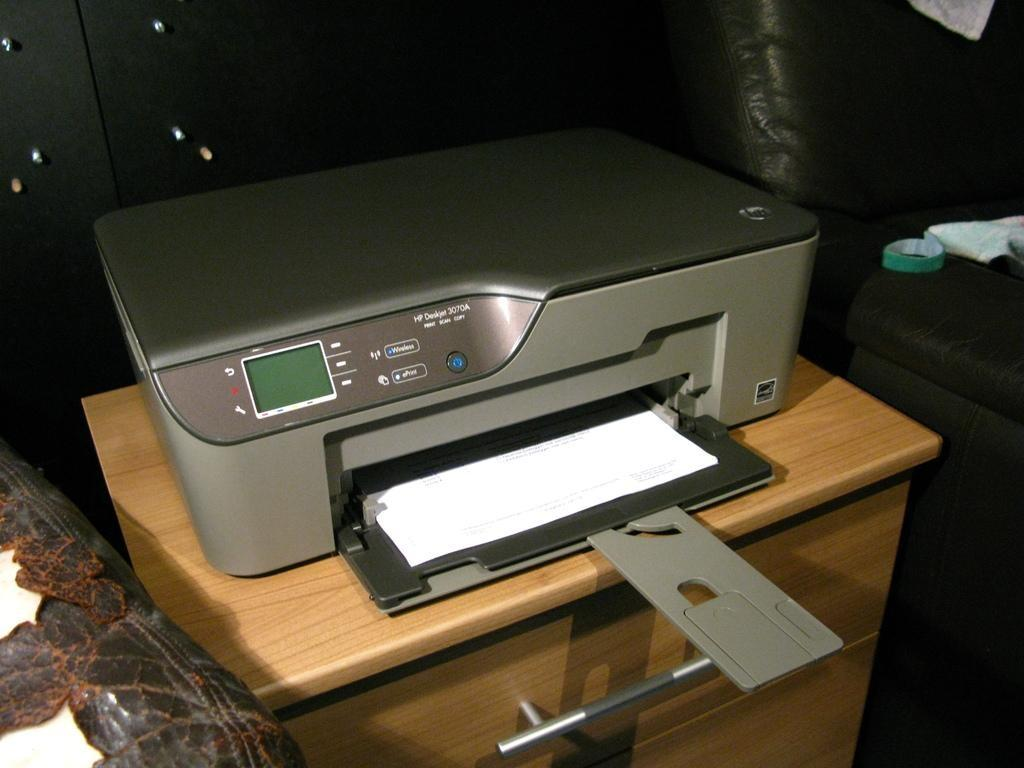Printer: (93, 126, 844, 689)
